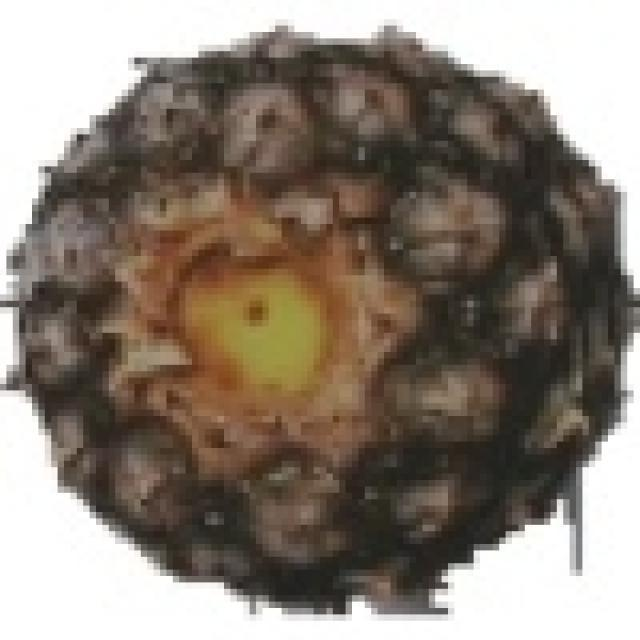pineapple: (6, 19, 614, 595)
